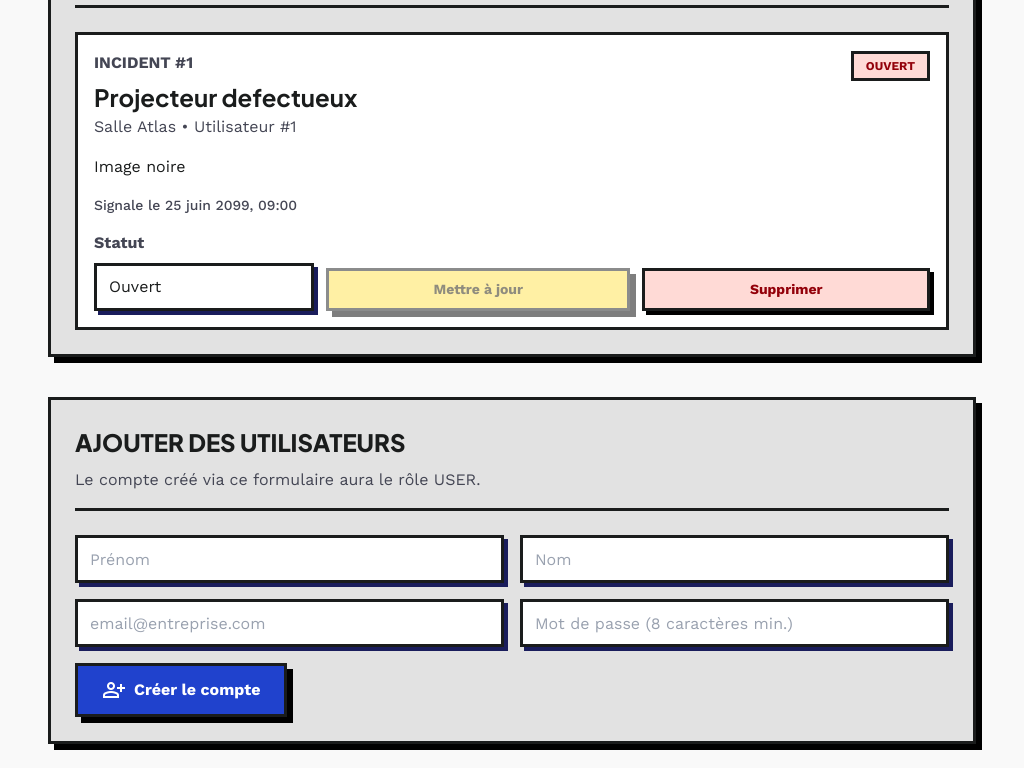
it: Admin › cree un utilisateur via POST /users
(page scrolled)
Type "Jeanne" into the field with placeholder "Prénom" at [290, 559], box [75,535,504,583]
(page scrolled)
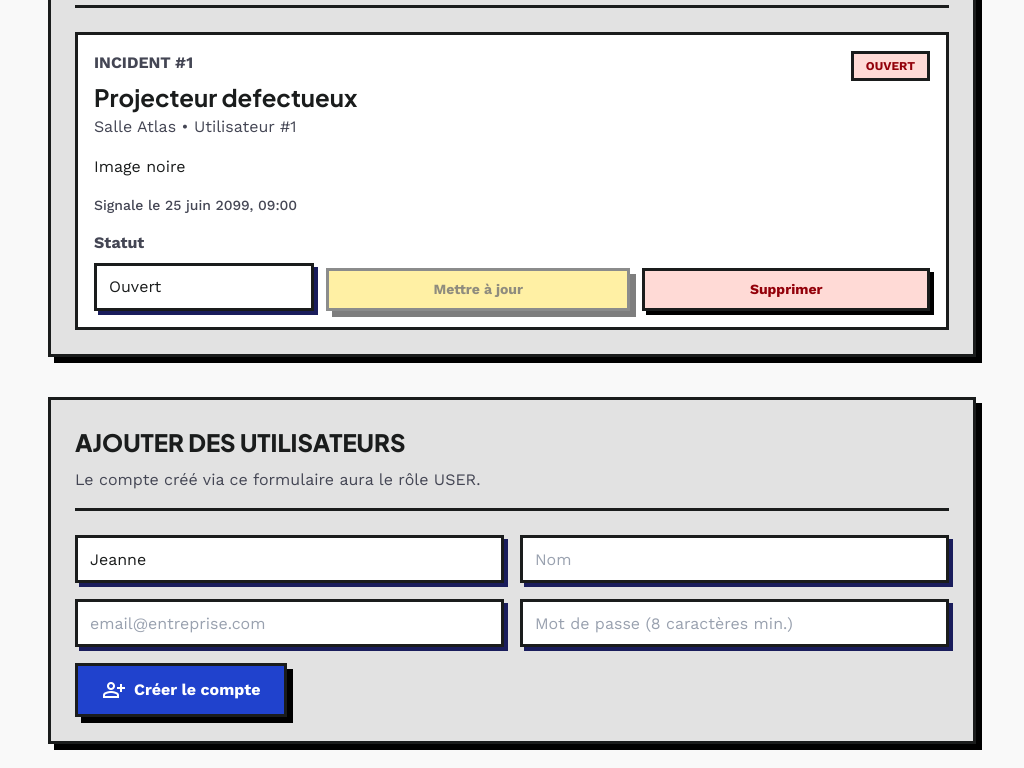
Type "Durand" into the field with placeholder "Nom" at [734, 559], box [520,535,949,583]
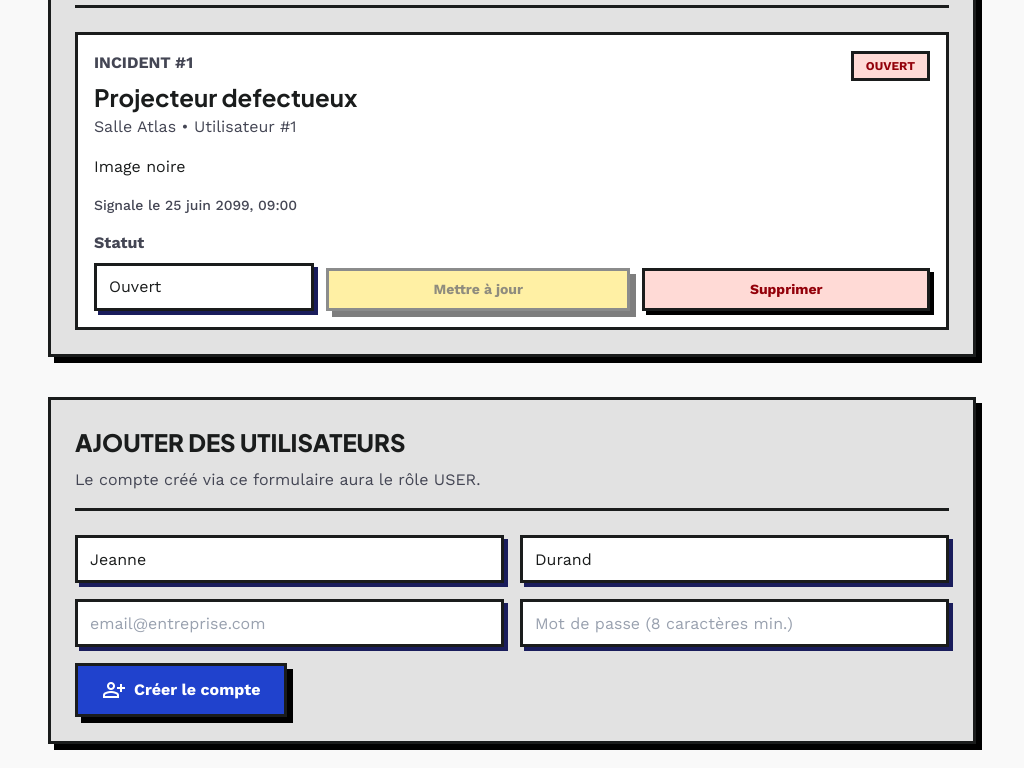
Type "jeanne@example.com" into the field with placeholder "email@entreprise.com" at [290, 623], box [75,599,504,647]
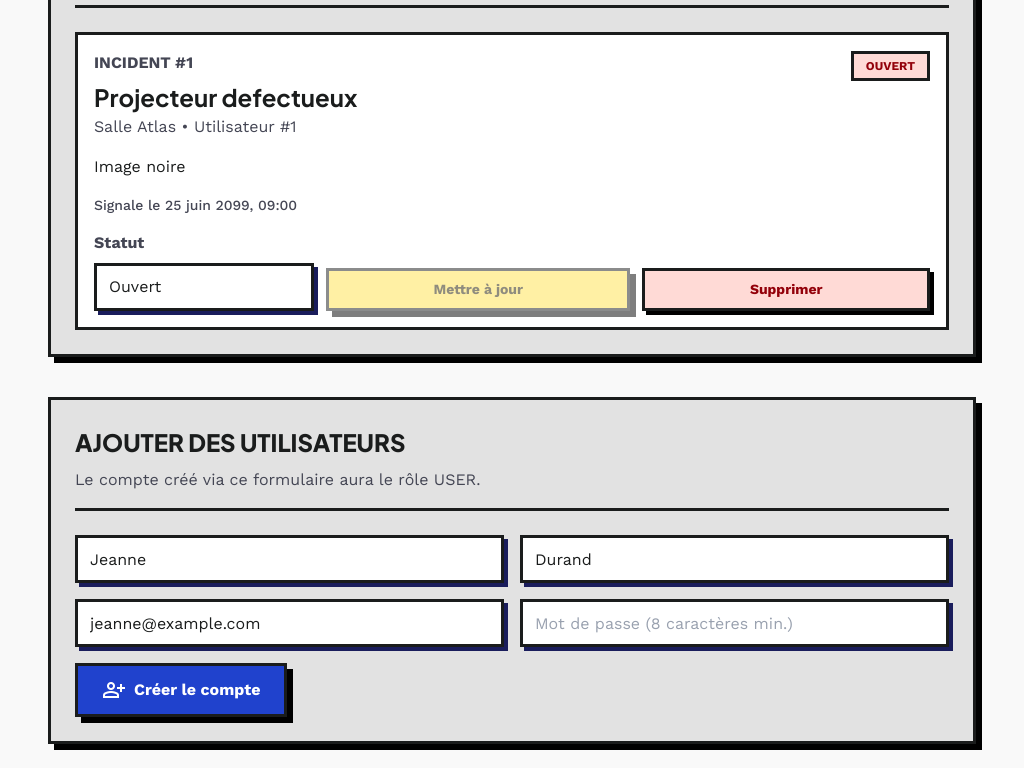
Type "password123" into the password field with placeholder "Mot de passe (8 caractères min.)" at [734, 623], box [520,599,949,647]
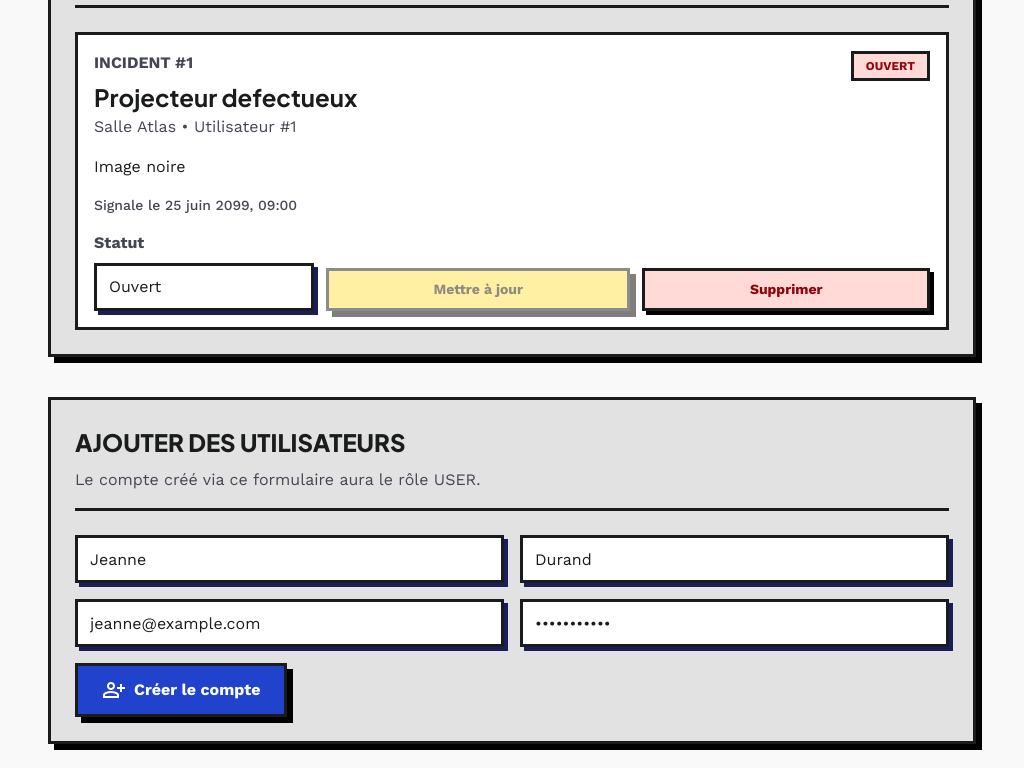
Click the button "Créer le compte" at [181, 690], box [75,663,288,717]
(page scrolled)
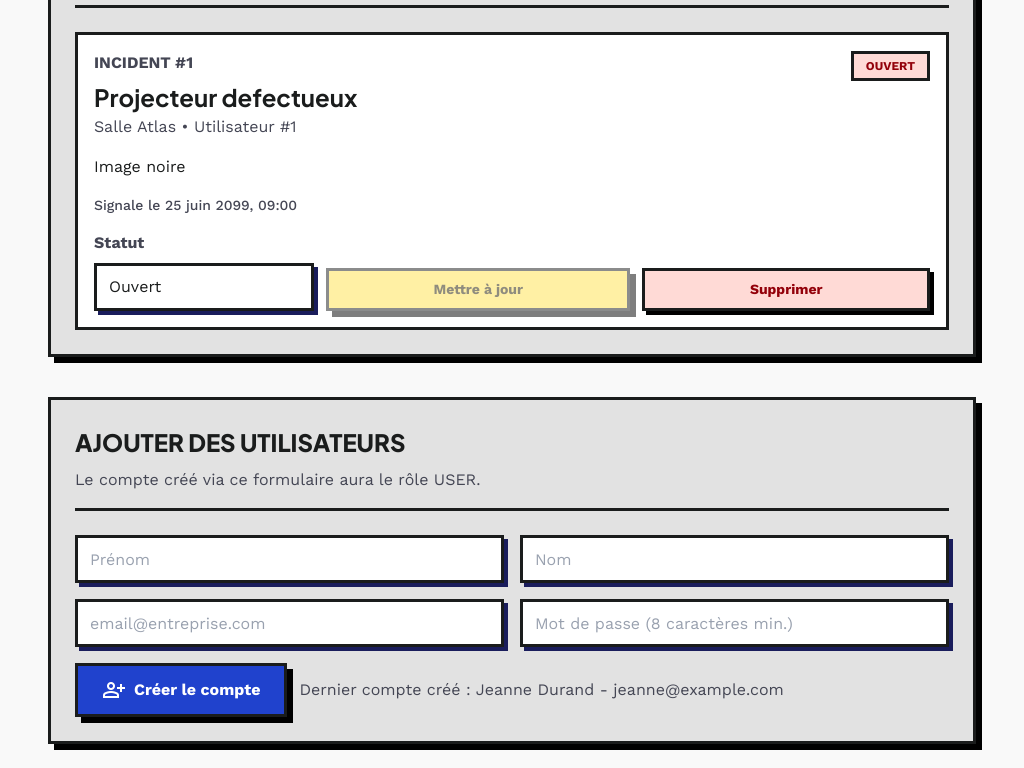
Result: the text "Dernier compte créé : Jeanne Durand - jeanne@example.com" is shown at [300,678,784,702]
